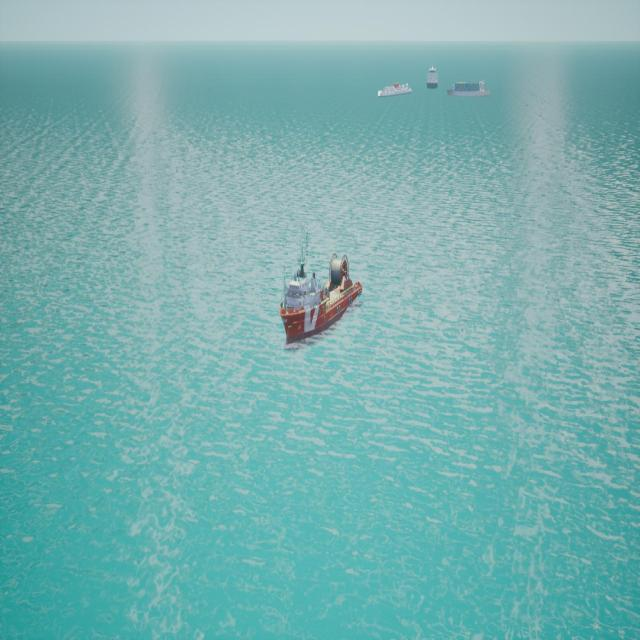tug boat: (278, 256, 363, 348)
